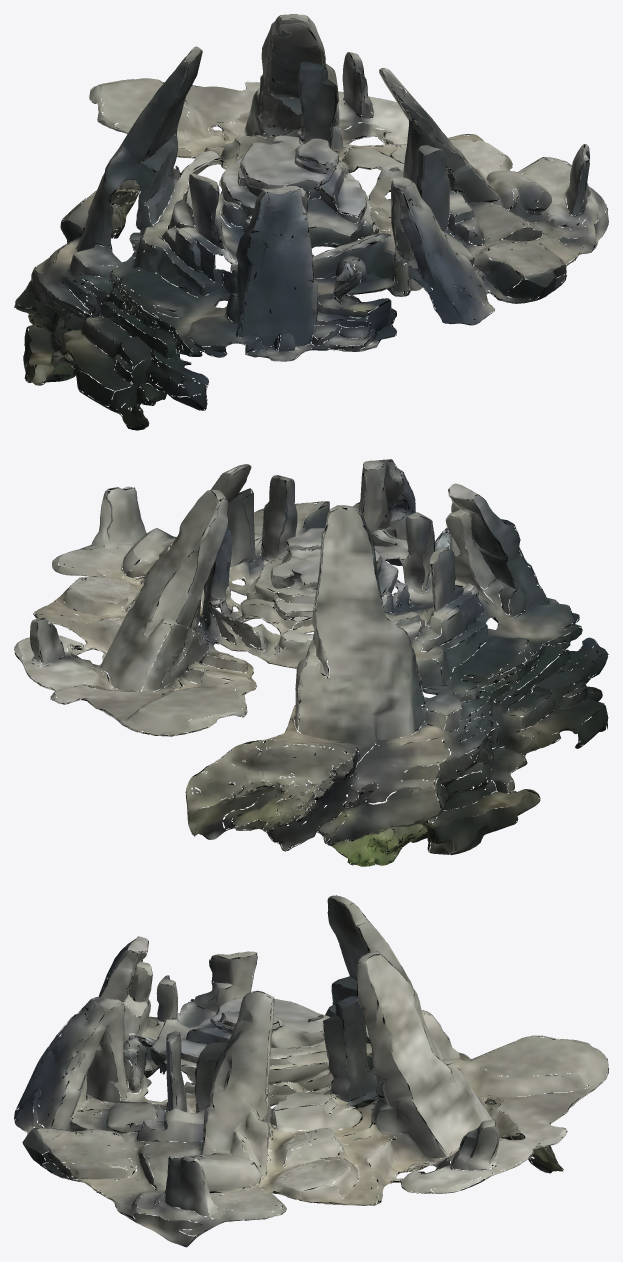
File: tython-seeing-stone.hq.glb
3 renders of one model, top to bottom at view 1: azimuth 30°, elevation 25°; view 2: azimuth 150°, elevation 25°; view 3: azimuth 270°, elevation 25°, orthographic. The views are drawn at different scales.
Parts seen in each view (by area): view 1: low; view 2: low; view 3: low.
Part boxes in pixels (box(x1,y1,x2,y2)): low: box(14, 14, 608, 430); low: box(14, 459, 608, 866); low: box(14, 895, 608, 1247).
Bounding box in the file's own units: 0.8235 × 0.4569 × 0.8399.
Materials: 1 (1 with a texture image).
